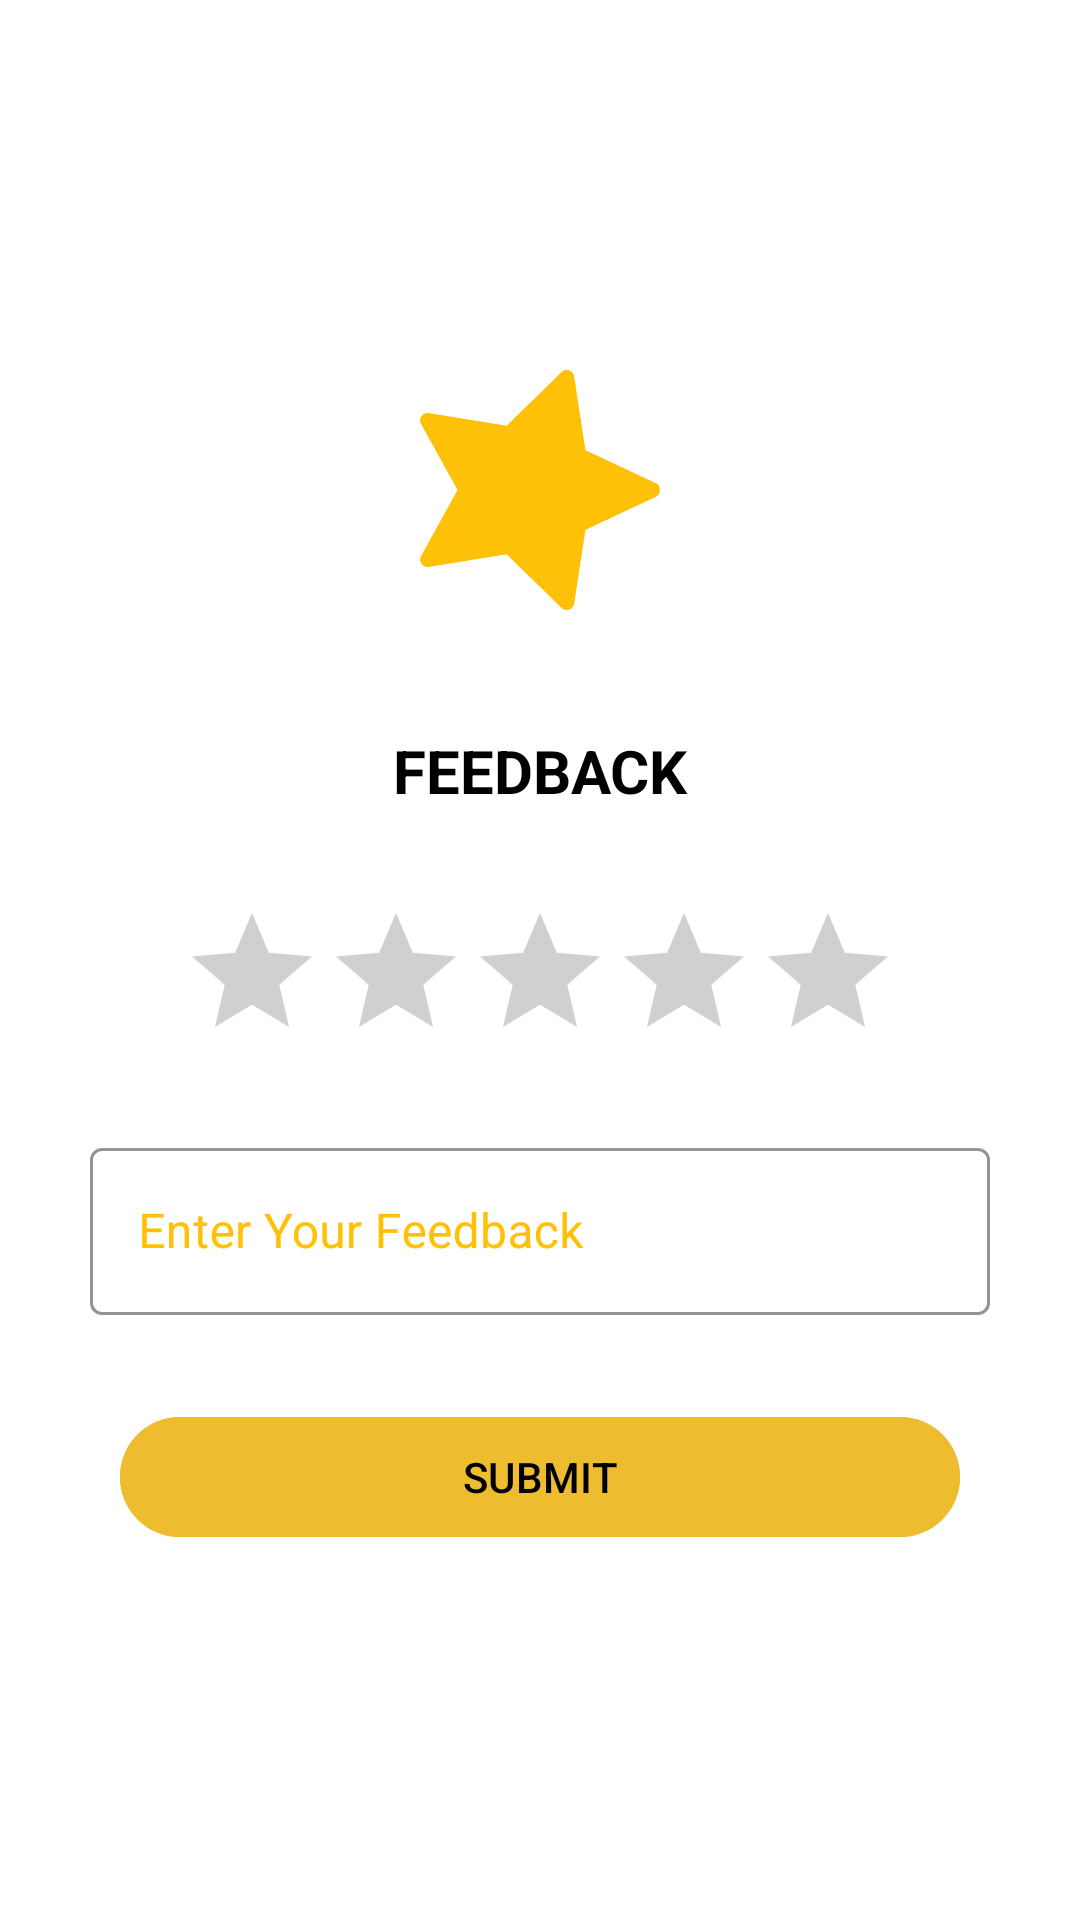

Named icons in this screenshot (1080px×1920px) and their bounding boxes, Rect(x1, y1, x2, y2):
star: Rect(420, 370, 660, 610)
